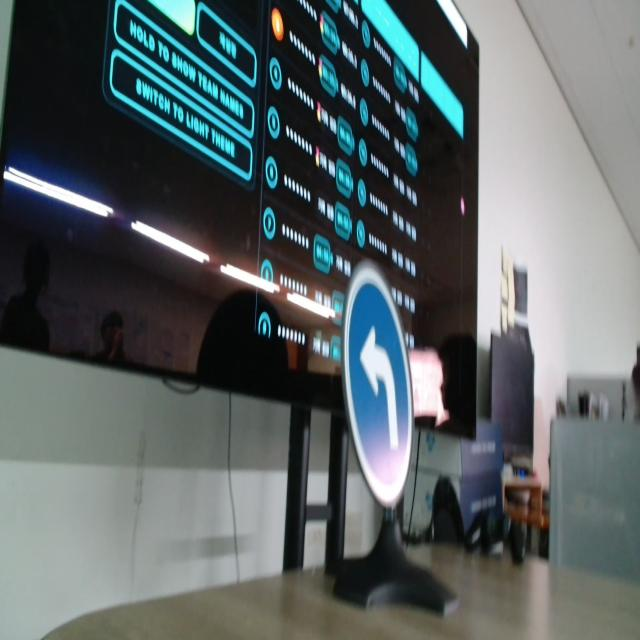left_direction: (338, 256, 416, 507)
